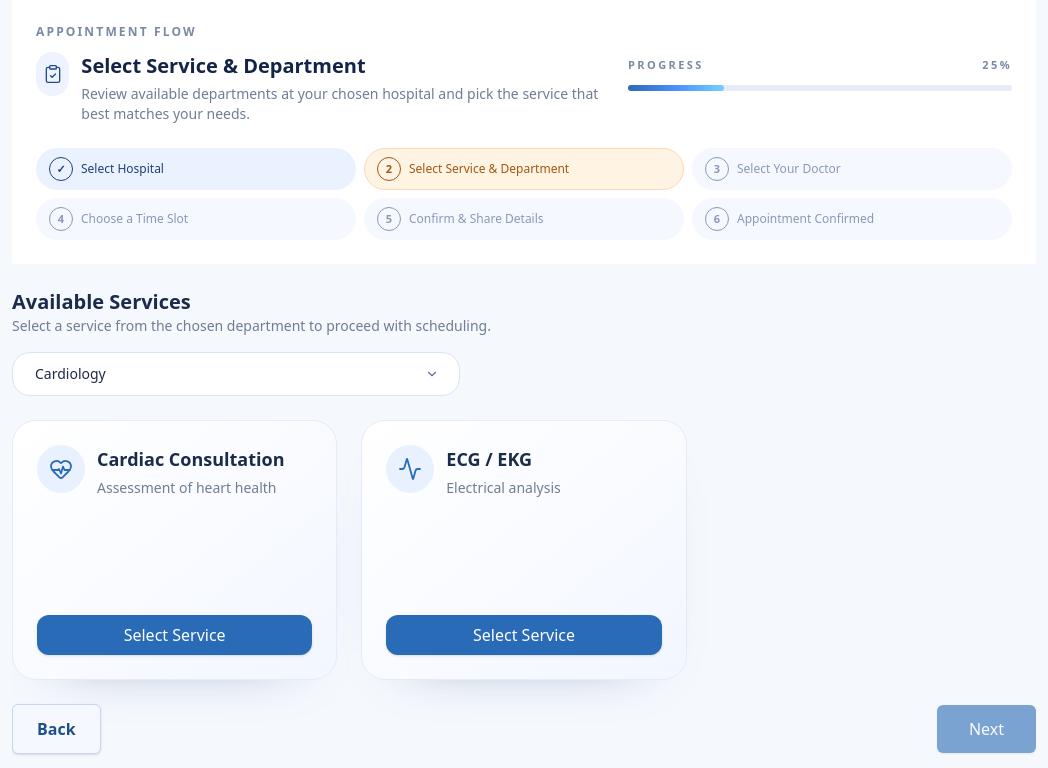
it: SelectDepartment › switching department updates services list and Next button enables only after selecting service
Note: Select Neurology from the combobox
Select "Neurology" in the dropdown at coordinates (236, 374), box [19, 353, 453, 395]
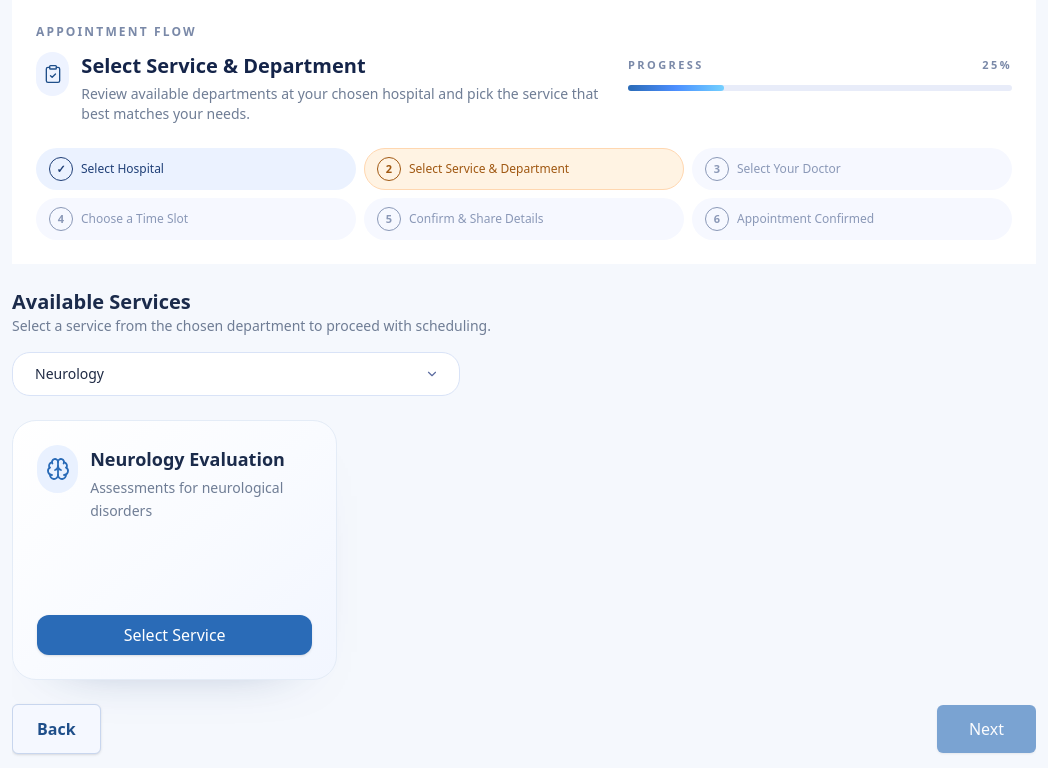
Check: the button "Next" is disabled, box [937, 705, 1036, 753]
Check: the heading "Neurology Evaluation" is shown, box [90, 445, 312, 473]
Note: Select the neurology service
Click the button "Select Service".
click(175, 635)  # box [37, 615, 312, 655]
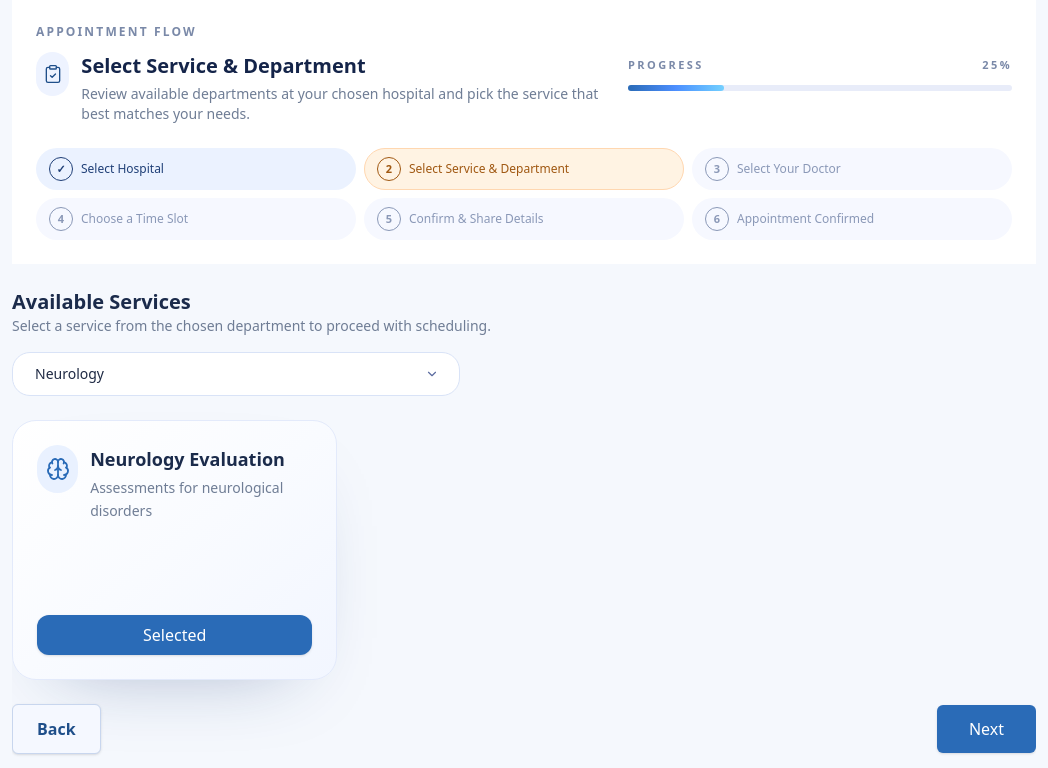
Check: the button "Next" is enabled, box [937, 705, 1036, 753]
